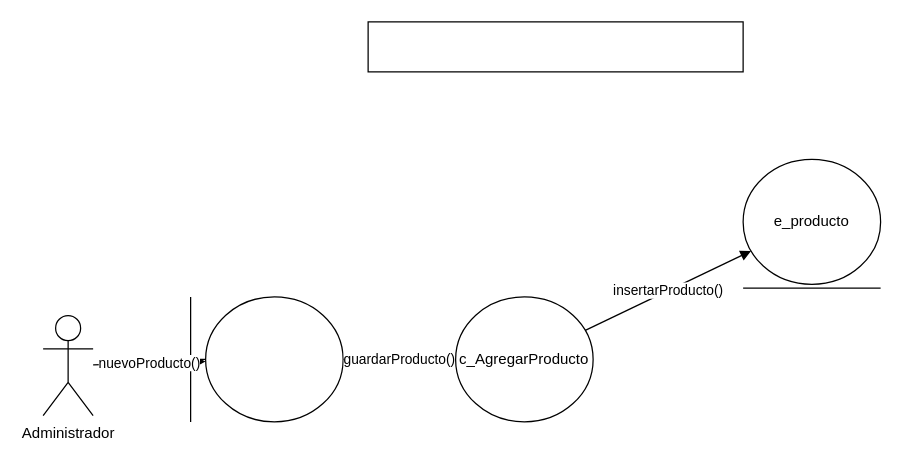
Image size: 904x464. Some labels were removed from this diagram. The centre of each missing label's shape, as x and y in pixels:
"Agregar Producto CU-23" goes at (555,46).
"i_AgregarProducto" goes at (273,359).
